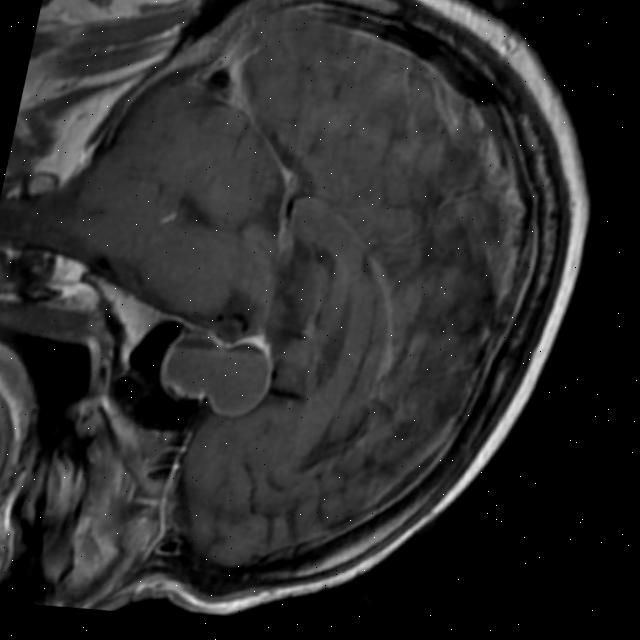Pituitary: (150, 323, 282, 427)
